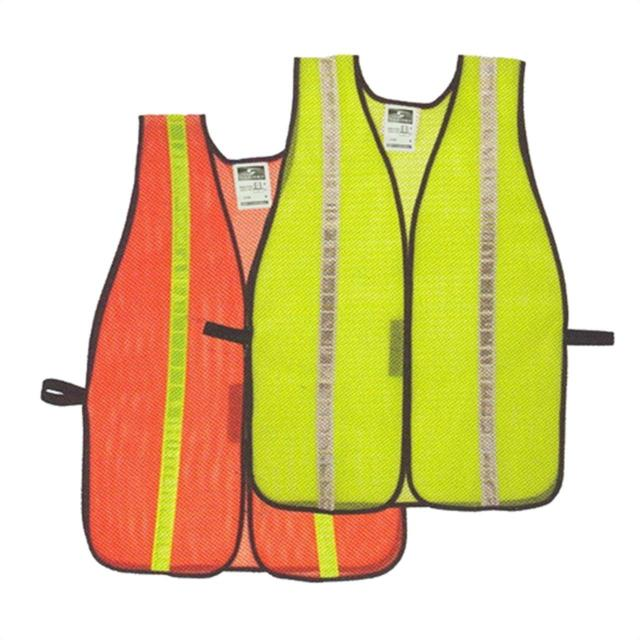Reflective-Jacket: (10, 94, 378, 591), (239, 43, 588, 517)
